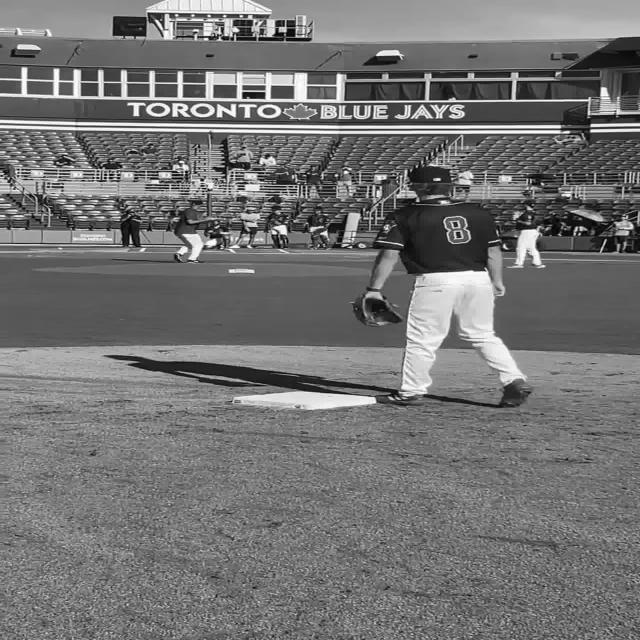base: (236, 391, 379, 406)
baseball_glove: (350, 291, 402, 327)
shoe: (498, 378, 532, 407), (374, 392, 424, 405), (173, 253, 184, 262), (186, 259, 204, 263), (506, 264, 522, 268), (530, 264, 546, 268), (228, 245, 240, 248)
